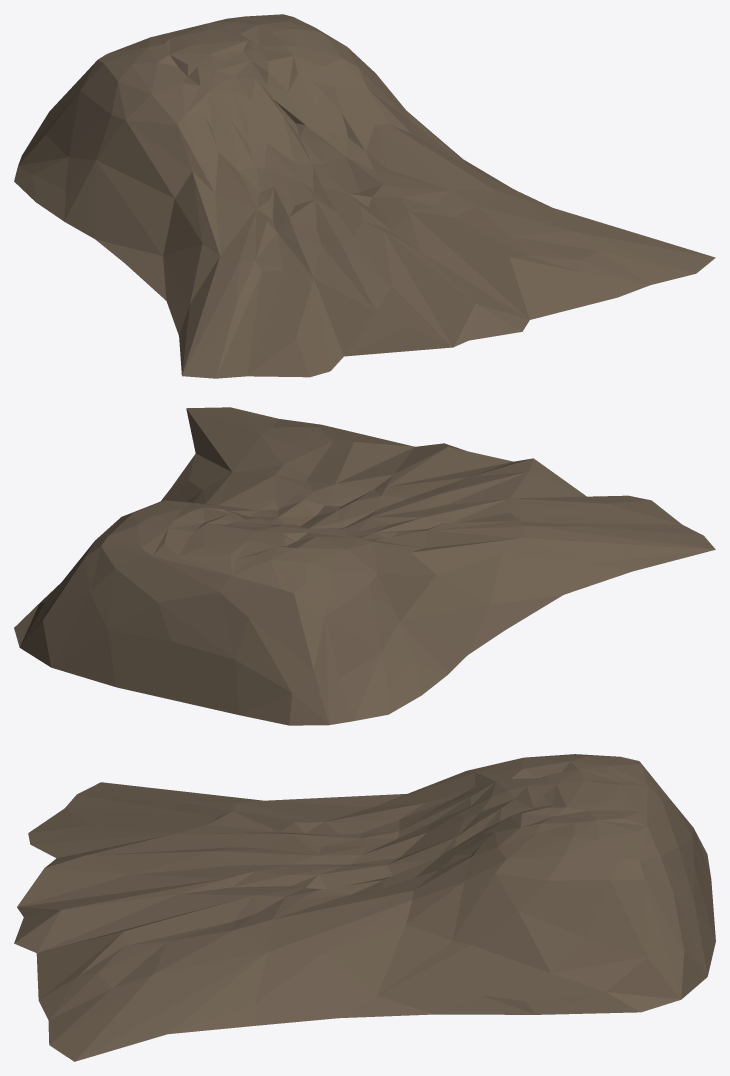
Rendered from samurai_SM_Gen_Env_Ground_Slope_Dirt_02.gltf.
The picture shows the model from 3 angles, top to bottom: view 1: azimuth 30°, elevation 25°; view 2: azimuth 150°, elevation 25°; view 3: azimuth 270°, elevation 25°; orthographic projection. The views are drawn at different scales.
Visible parts, largest first — view 1: SM_Gen_Env_Ground_Slope_Dirt_02; view 2: SM_Gen_Env_Ground_Slope_Dirt_02; view 3: SM_Gen_Env_Ground_Slope_Dirt_02.
Part boxes in pixels (x1,y1,x2,y2): SM_Gen_Env_Ground_Slope_Dirt_02: (14,14,715,378); SM_Gen_Env_Ground_Slope_Dirt_02: (14,407,715,725); SM_Gen_Env_Ground_Slope_Dirt_02: (14,754,715,1061).
Bounding box in the file's own units: 23.52 × 4.93 × 24.95.
1 material, 1 textured.
